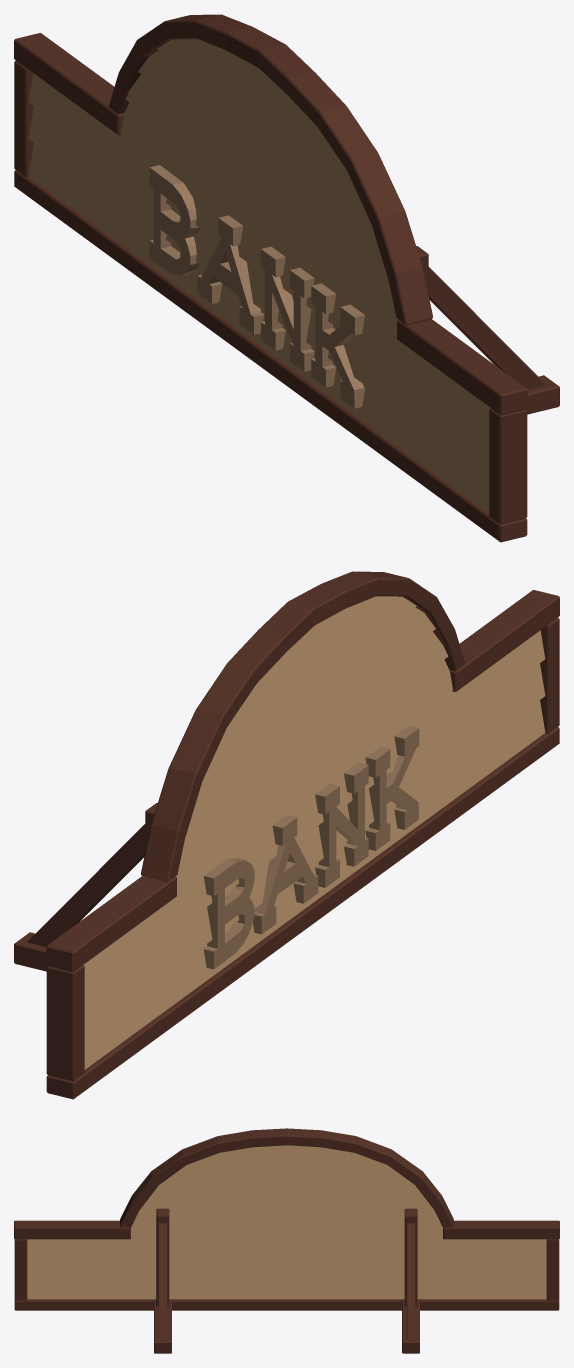
Rendered from Bank Sign B.glb.
The picture shows the model from 3 angles, top to bottom: view 1: azimuth 30°, elevation 25°; view 2: azimuth 150°, elevation 25°; view 3: azimuth 270°, elevation 25°; orthographic projection. The views are drawn at different scales.
Parts seen in each view (by area): view 1: Bank Sign B; view 2: Bank Sign B; view 3: Bank Sign B.
Part boxes in pixels (left/top/right/bottom): Bank Sign B: left=14, top=14, right=559, bottom=542; Bank Sign B: left=14, top=571, right=559, bottom=1099; Bank Sign B: left=14, top=1128, right=559, bottom=1353.
Size of the model in its own units: 146 by 235 by 660.
